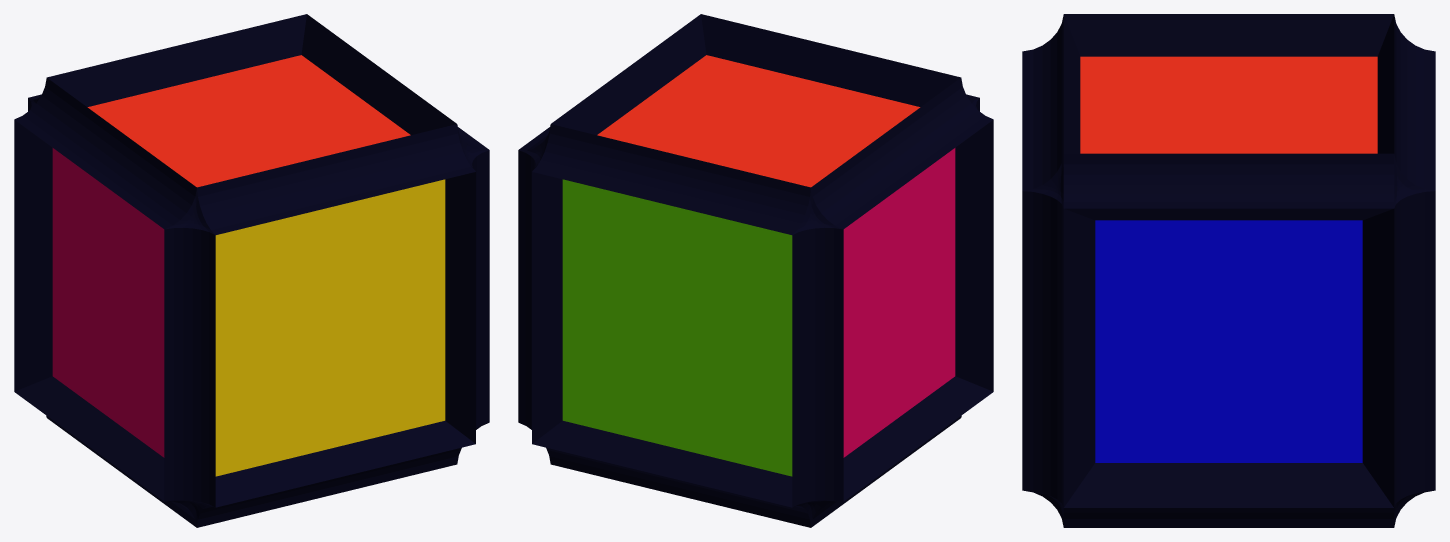
3 renders of one model, left to right at view 1: azimuth 30°, elevation 25°; view 2: azimuth 150°, elevation 25°; view 3: azimuth 270°, elevation 25°, orthographic. The views are drawn at different scales.
Visible parts, largest first — view 1: Cube; view 2: Cube; view 3: Cube.
Part boxes in pixels (bbox=[...]): Cube: bbox=[14, 14, 489, 527]; Cube: bbox=[518, 14, 993, 527]; Cube: bbox=[1022, 14, 1435, 527].
Bounding box in the file's own units: 200 × 200 × 200.
